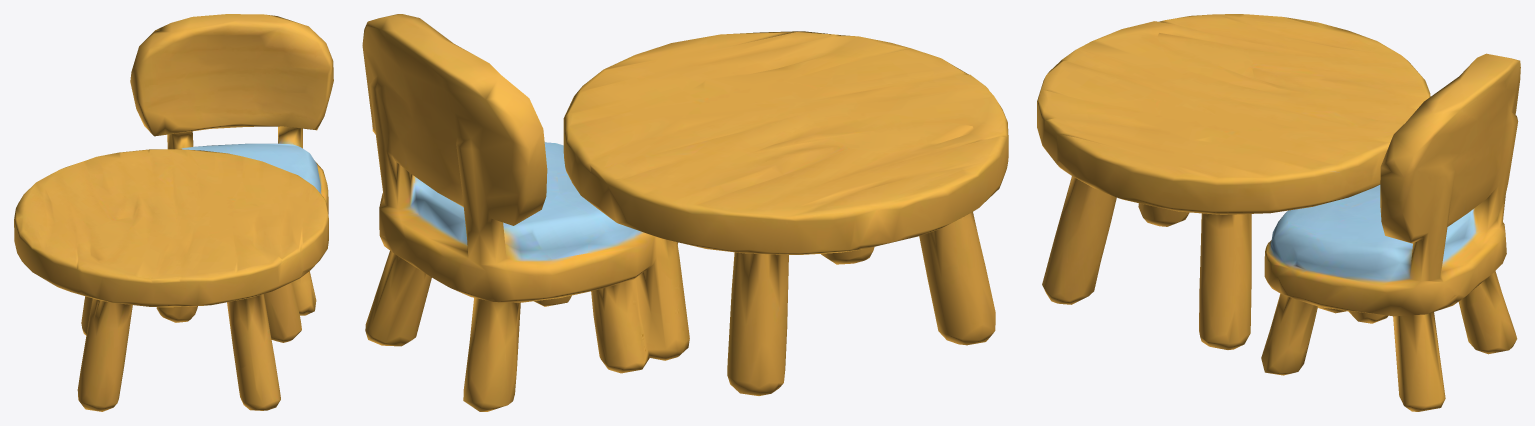
File: interieur-table.glb
The picture shows the model from 3 angles, left to right: view 1: azimuth 30°, elevation 25°; view 2: azimuth 150°, elevation 25°; view 3: azimuth 270°, elevation 25°; orthographic projection. The views are drawn at different scales.
Visible parts, largest first — view 1: tripo_node_ada2fabc-18c4-4309-ab1c-04be2ee9e3f9; view 2: tripo_node_ada2fabc-18c4-4309-ab1c-04be2ee9e3f9; view 3: tripo_node_ada2fabc-18c4-4309-ab1c-04be2ee9e3f9.
Boxes of the visible parts, bbox=[...] form: tripo_node_ada2fabc-18c4-4309-ab1c-04be2ee9e3f9: bbox=[14, 14, 333, 411]; tripo_node_ada2fabc-18c4-4309-ab1c-04be2ee9e3f9: bbox=[362, 14, 1008, 411]; tripo_node_ada2fabc-18c4-4309-ab1c-04be2ee9e3f9: bbox=[1037, 14, 1520, 411].
Size of the model in its own units: 1 by 0.6245 by 0.9087.
Materials: 1 (1 with a texture image).
